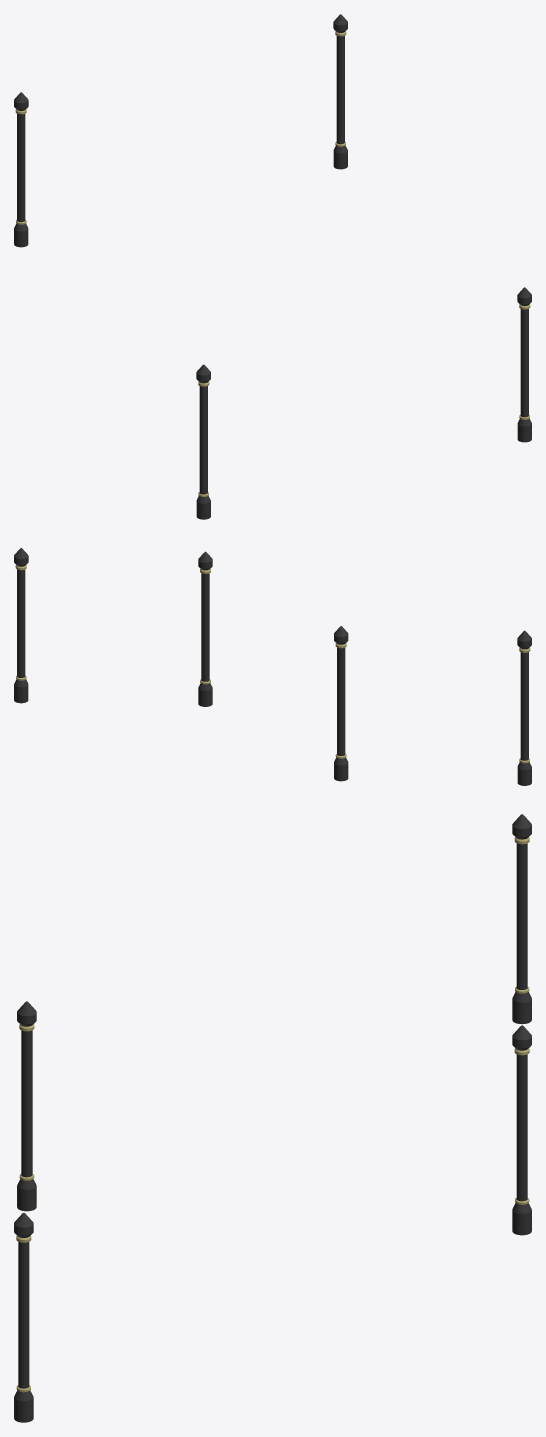
The model's file is wire-poles-slope-full.dae.
The picture shows the model from 3 angles, top to bottom: view 1: azimuth 30°, elevation 25°; view 2: azimuth 150°, elevation 25°; view 3: azimuth 270°, elevation 25°; orthographic projection. The views are drawn at different scales.
Visible parts, largest first — view 1: Cylinder_003, Cylinder_004, Cylinder, Cylinder_002; view 2: Cylinder_002, Cylinder_003, Cylinder, Cylinder_004; view 3: Cylinder_003, Cylinder, Cylinder_004, Cylinder_002.
Boxes of the visible parts, x1=… form: Cylinder_003: x1=196, y1=364, x2=210, y2=519; Cylinder_004: x1=517, y1=287, x2=531, y2=442; Cylinder: x1=333, y1=14, x2=347, y2=169; Cylinder_002: x1=14, y1=92, x2=28, y2=247; Cylinder_002: x1=334, y1=626, x2=348, y2=781; Cylinder_003: x1=517, y1=630, x2=531, y2=785; Cylinder: x1=14, y1=548, x2=28, y2=703; Cylinder_004: x1=198, y1=551, x2=212, y2=706; Cylinder_003: x1=17, y1=1001, x2=36, y2=1211; Cylinder: x1=512, y1=1025, x2=531, y2=1235; Cylinder_004: x1=14, y1=1212, x2=33, y2=1422; Cylinder_002: x1=512, y1=814, x2=531, y2=1024.
Bounding box in the file's own units: 8.31 × 8.28 × 6.92.
